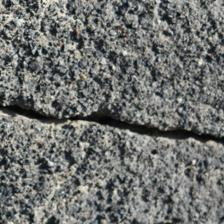Crack: (6, 96, 219, 152)
